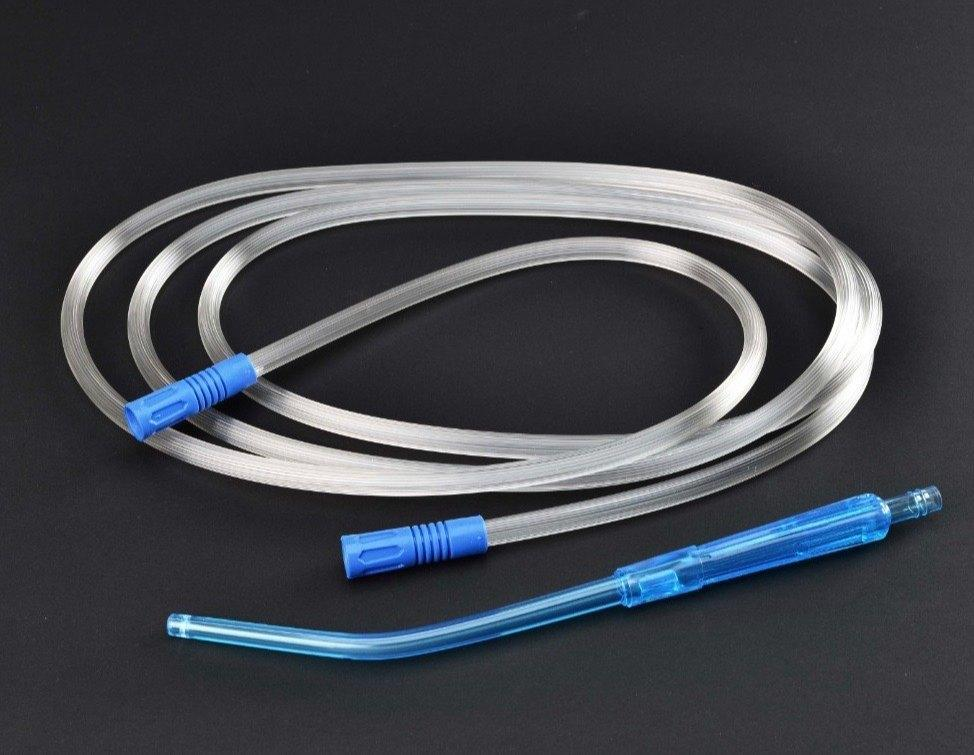Suction Tube Nozzle: (53, 150, 953, 671)
